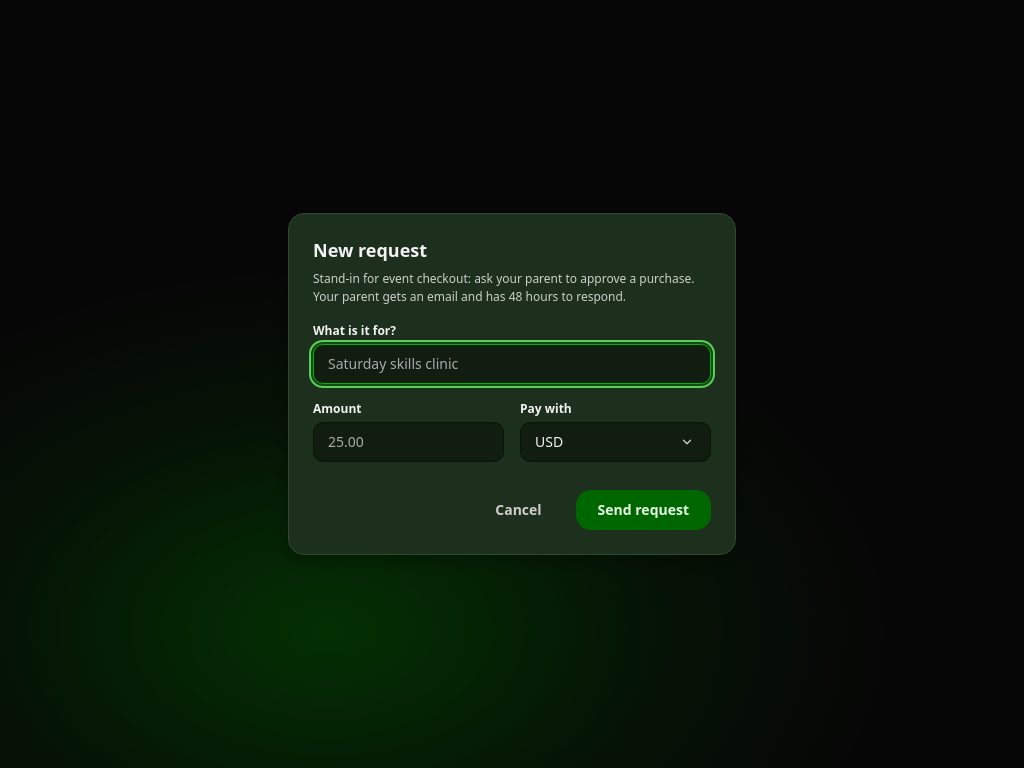
Test: NewPurchaseRequestModal › shows a generic error when the request fails
In the field labelled "What is it for?": (512, 364) [313,344,711,384], type "Boots"
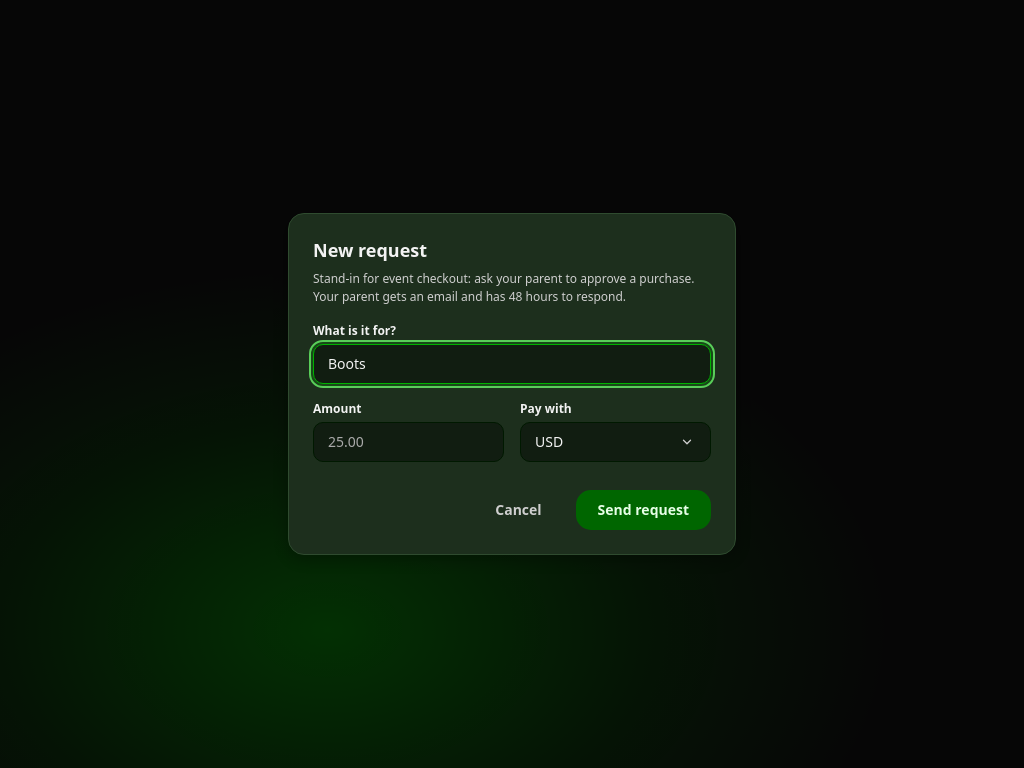
In the field labelled "Amount": (408, 442) [313,422,504,462], type "40"
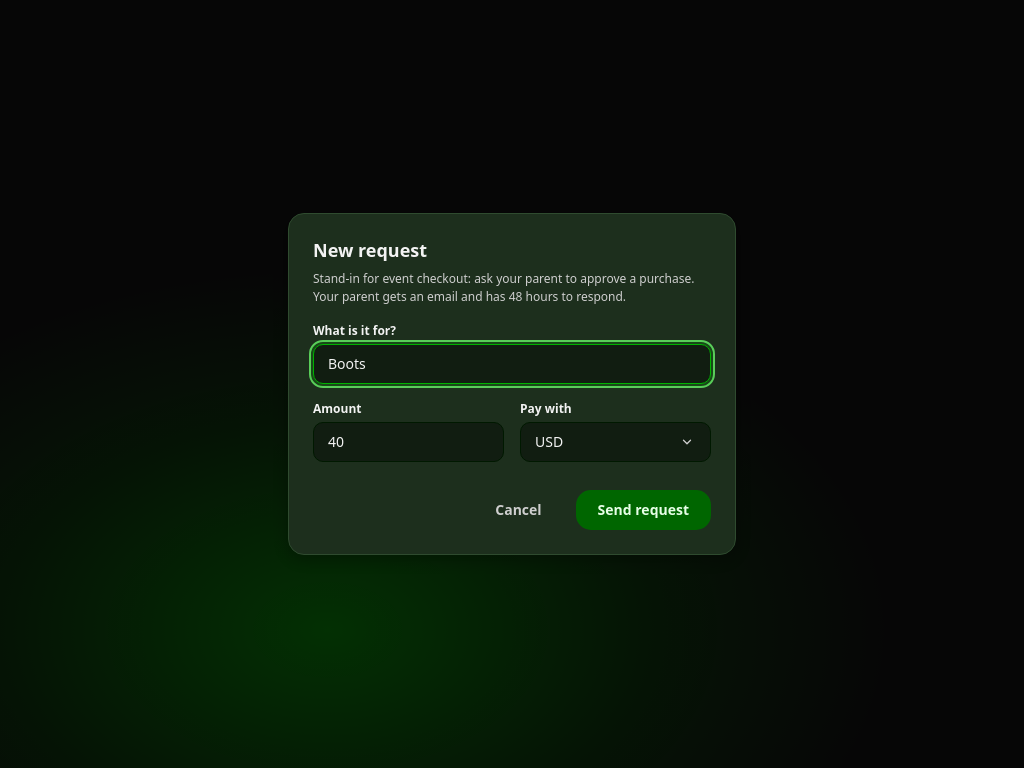
Click the button "Send request": (643, 510) [576,490,711,530]
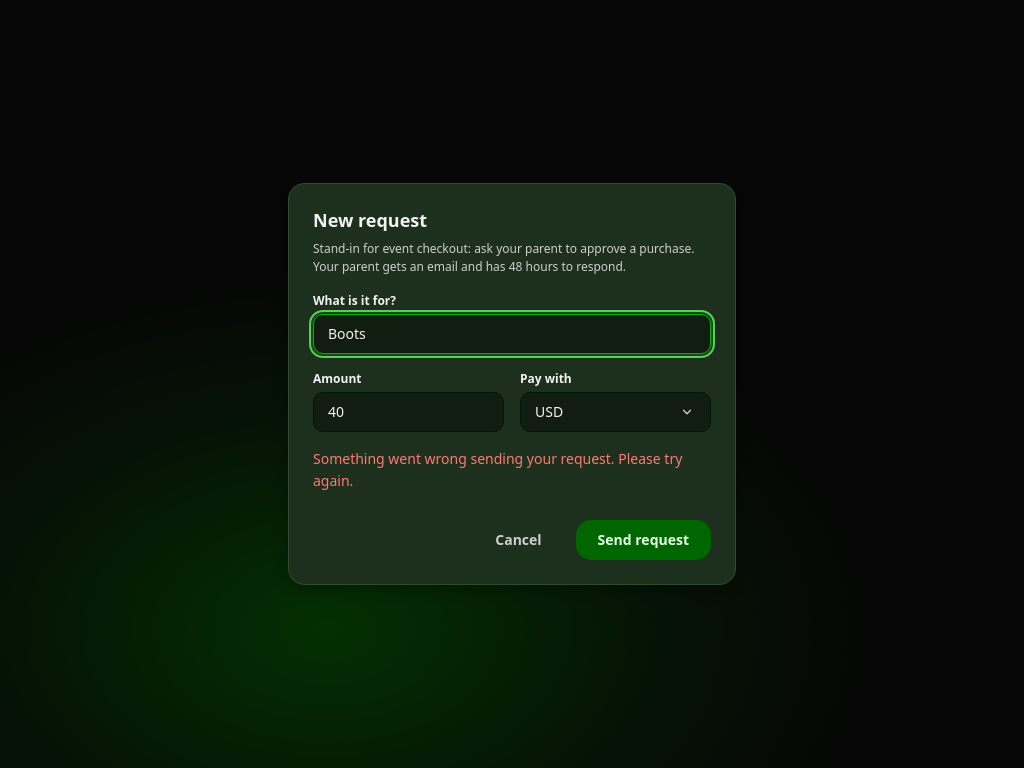
Now the text "Something went wrong sending your request. Please try again." is shown, box [313,448,711,492]
